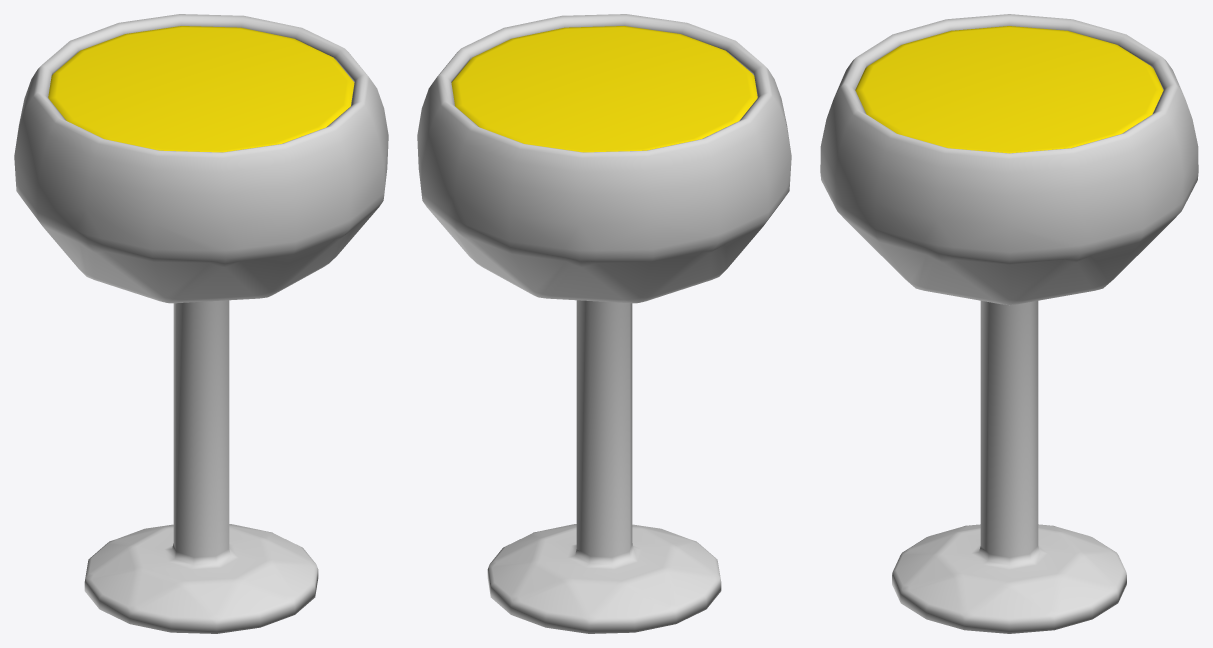
File: AcidyneGlass.fbx
The picture shows the model from 3 angles, left to right: view 1: azimuth 30°, elevation 25°; view 2: azimuth 150°, elevation 25°; view 3: azimuth 270°, elevation 25°; orthographic projection.
Parts seen in each view (by area): view 1: Acidyne Glass; view 2: Acidyne Glass; view 3: Acidyne Glass.
Boxes of the visible parts, box(x1,y1,x2,y2) form: Acidyne Glass: box(14, 14, 388, 633); Acidyne Glass: box(417, 14, 791, 633); Acidyne Glass: box(820, 14, 1198, 633).
Bounding box in the file's own units: 62.9 × 91.82 × 62.9.
